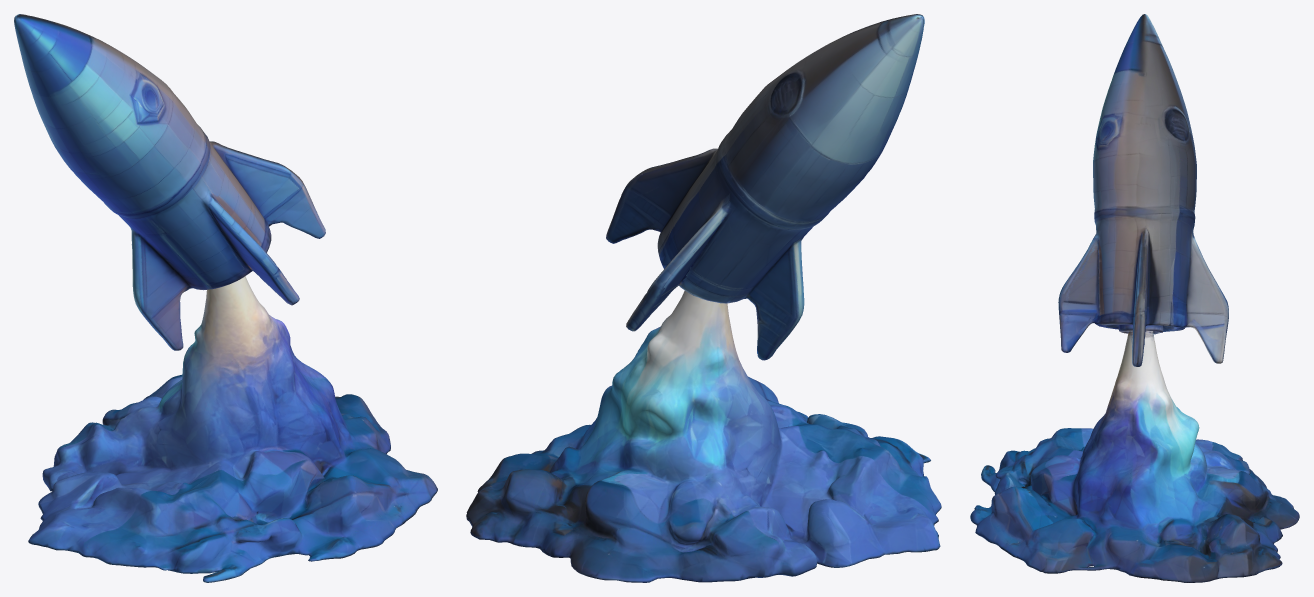
Rendered from rocket2.glb.
3 views of the same model, side by side, from view 1: azimuth 30°, elevation 25°; view 2: azimuth 150°, elevation 25°; view 3: azimuth 270°, elevation 25° (orthographic). The views are drawn at different scales.
Parts seen in each view (by area): view 1: Mesh_0; view 2: Mesh_0; view 3: Mesh_0.
Boxes of the visible parts, x1=… form: Mesh_0: x1=14, y1=14, x2=437, y2=582; Mesh_0: x1=466, y1=14, x2=941, y2=582; Mesh_0: x1=970, y1=14, x2=1299, y2=582.
Bounding box in the file's own units: 5.18 × 6.64 × 4.73.
Materials: 1 (1 with a texture image).
